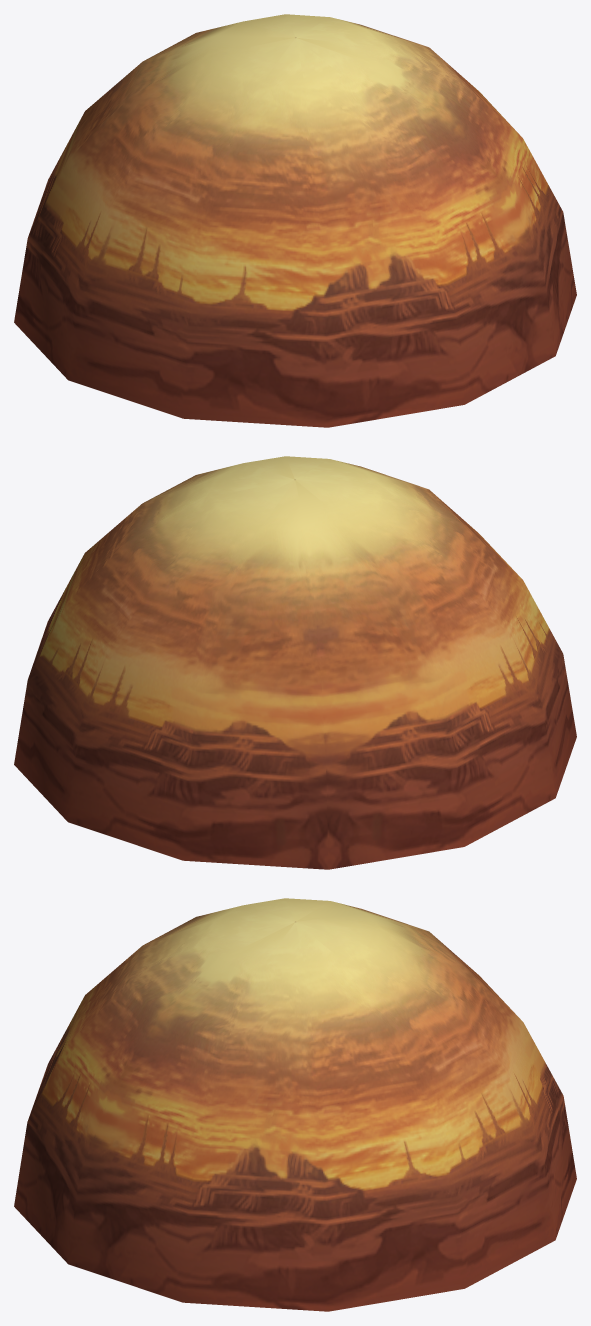
The model's file is env_geonosis_battleground_pre.glb.
The picture shows the model from 3 angles, top to bottom: view 1: azimuth 30°, elevation 25°; view 2: azimuth 150°, elevation 25°; view 3: azimuth 270°, elevation 25°; orthographic projection.
Visible parts, largest first — view 1: skybox_01_mesh; view 2: skybox_01_mesh; view 3: skybox_01_mesh.
Boxes of the visible parts, bbox=[...] form: skybox_01_mesh: bbox=[14, 14, 576, 427]; skybox_01_mesh: bbox=[14, 456, 576, 869]; skybox_01_mesh: bbox=[14, 898, 576, 1311].
Size of the model in its own units: 288 by 153 by 288.
Materials: 16 (16 with a texture image).
